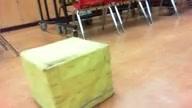cube: (20, 37, 114, 108)
